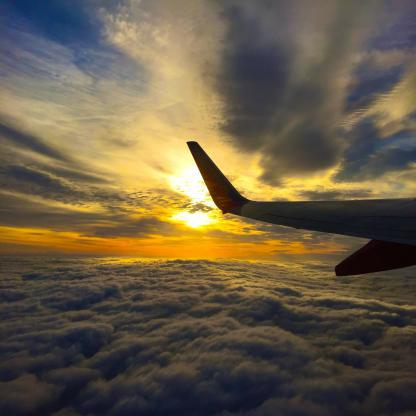CIV_Plane: (182, 138, 415, 281)
